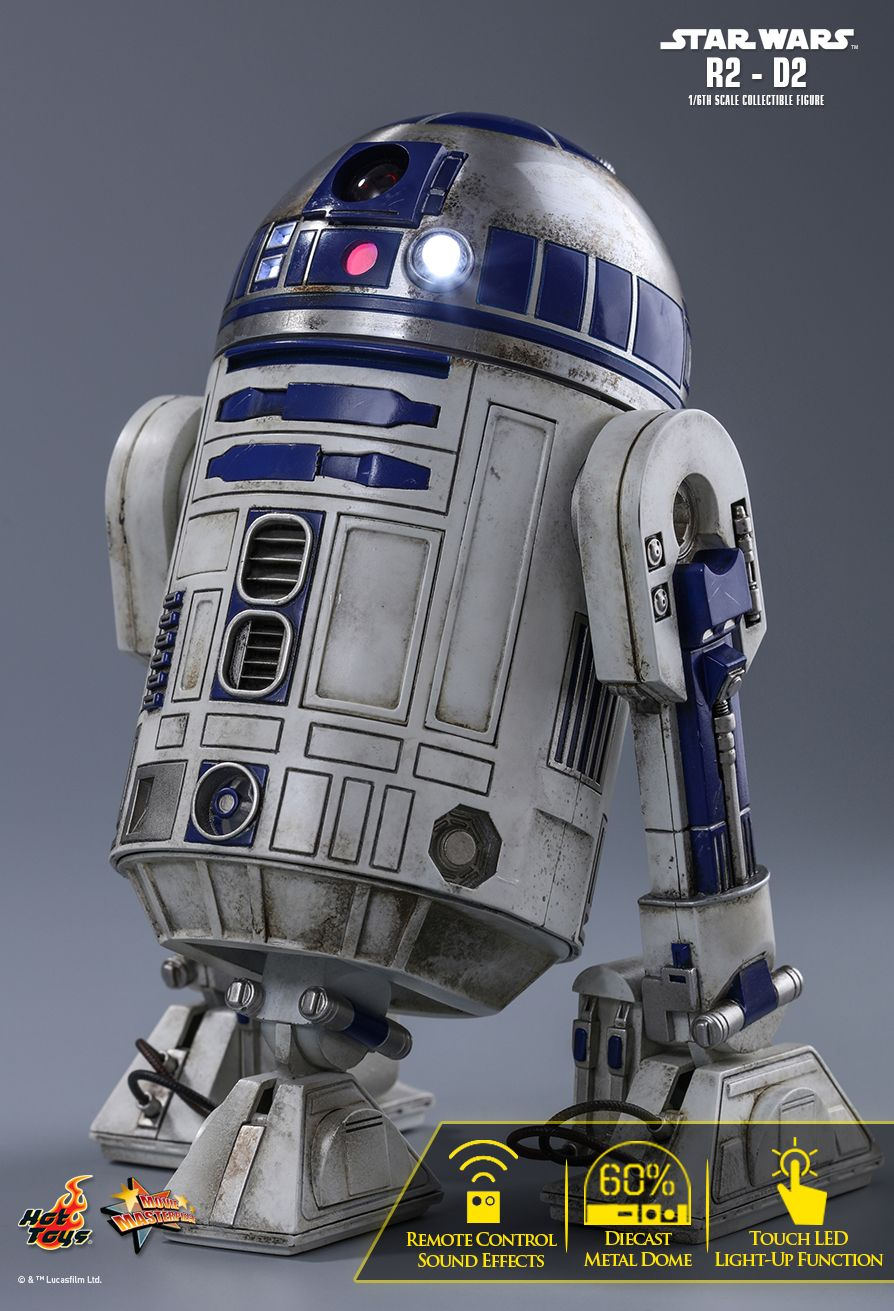r2d2: (105, 116, 851, 1119)
